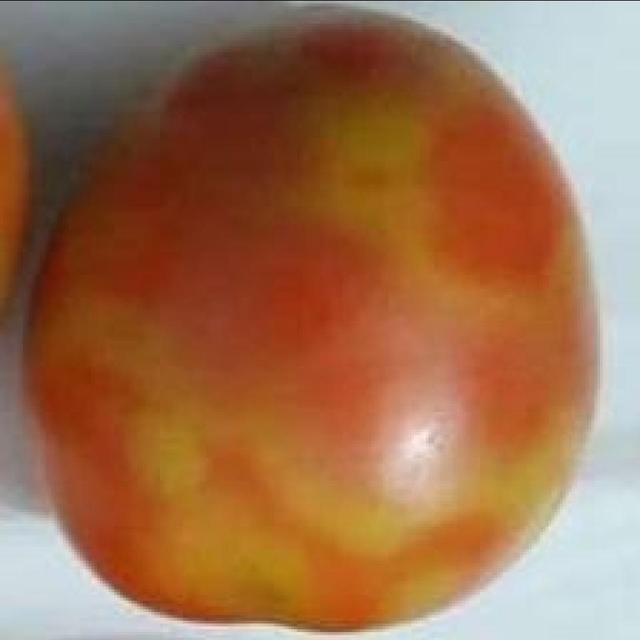Spotted wilt Virus Fruit: (17, 4, 401, 421)
